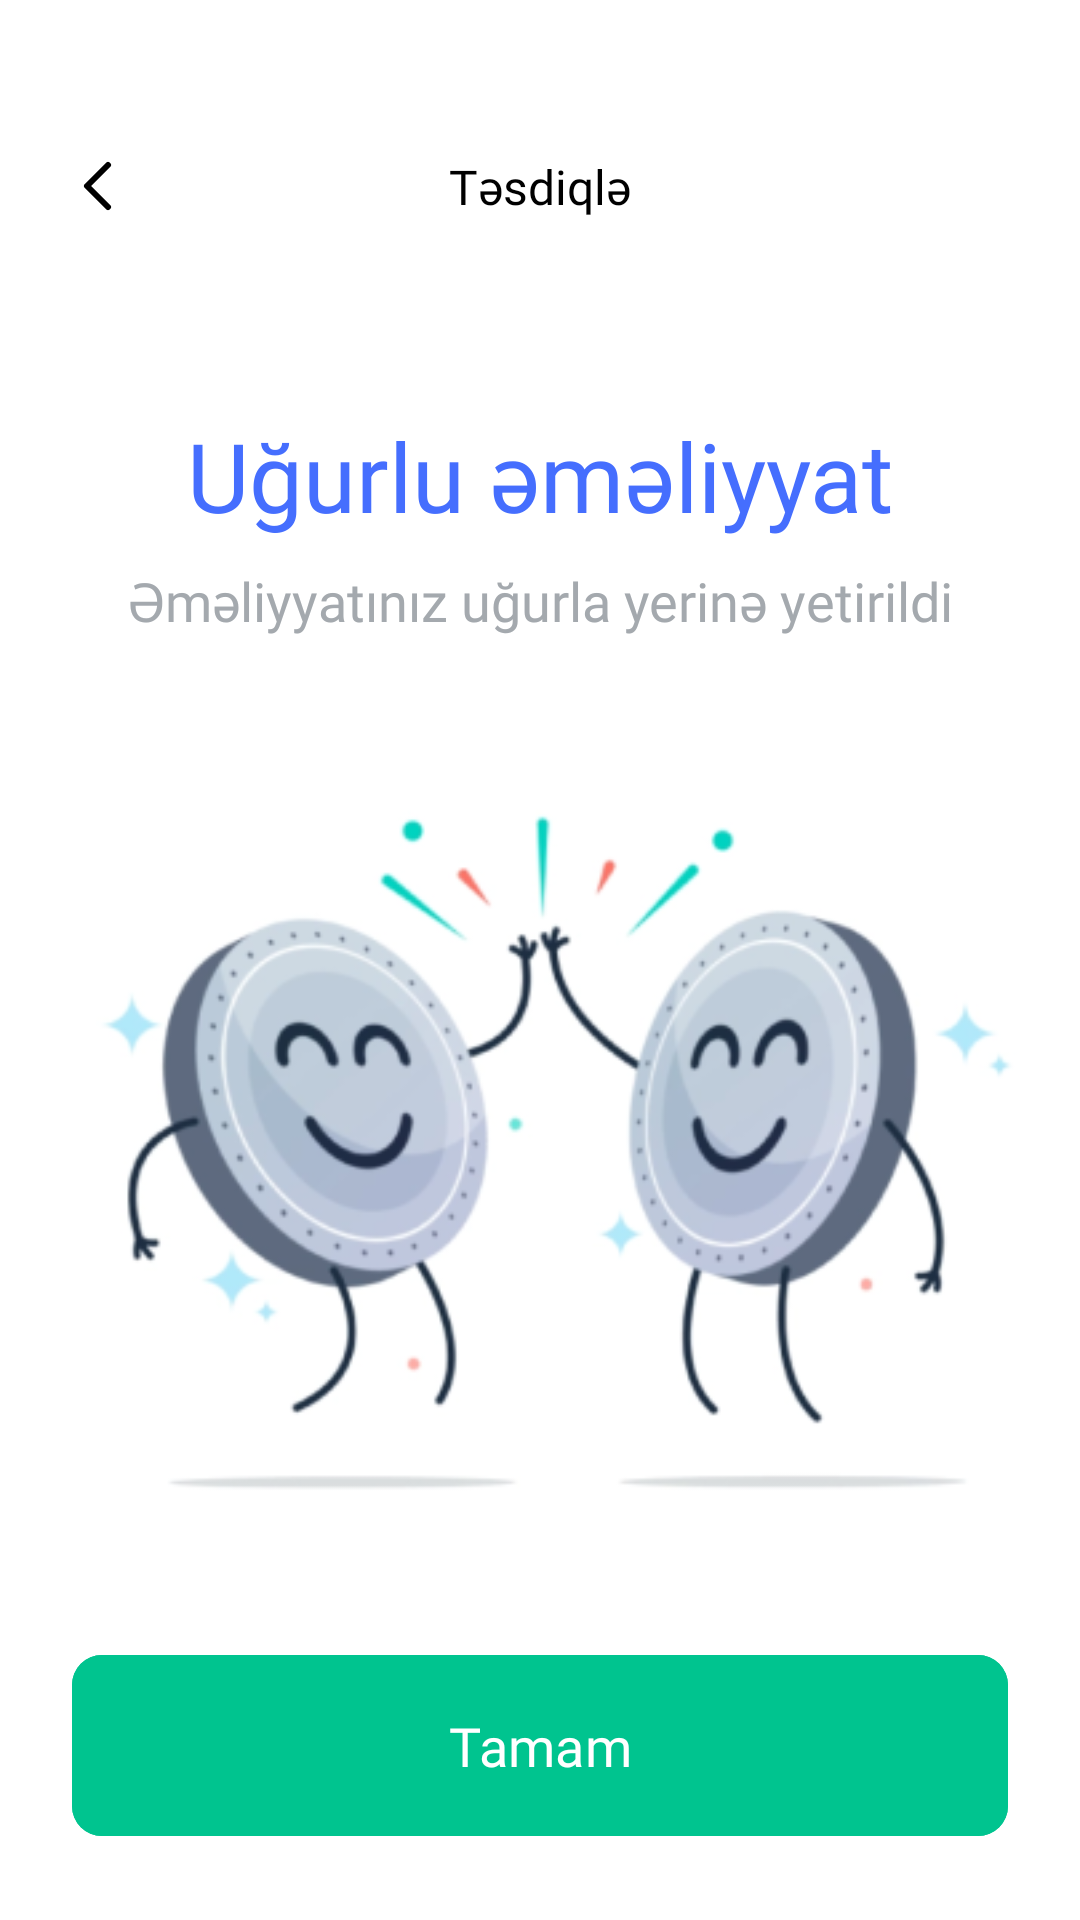

Where icons sit on this 1080×1920 app screen, as (x1, y1, x2, y2):
back: (84, 162, 111, 210)
